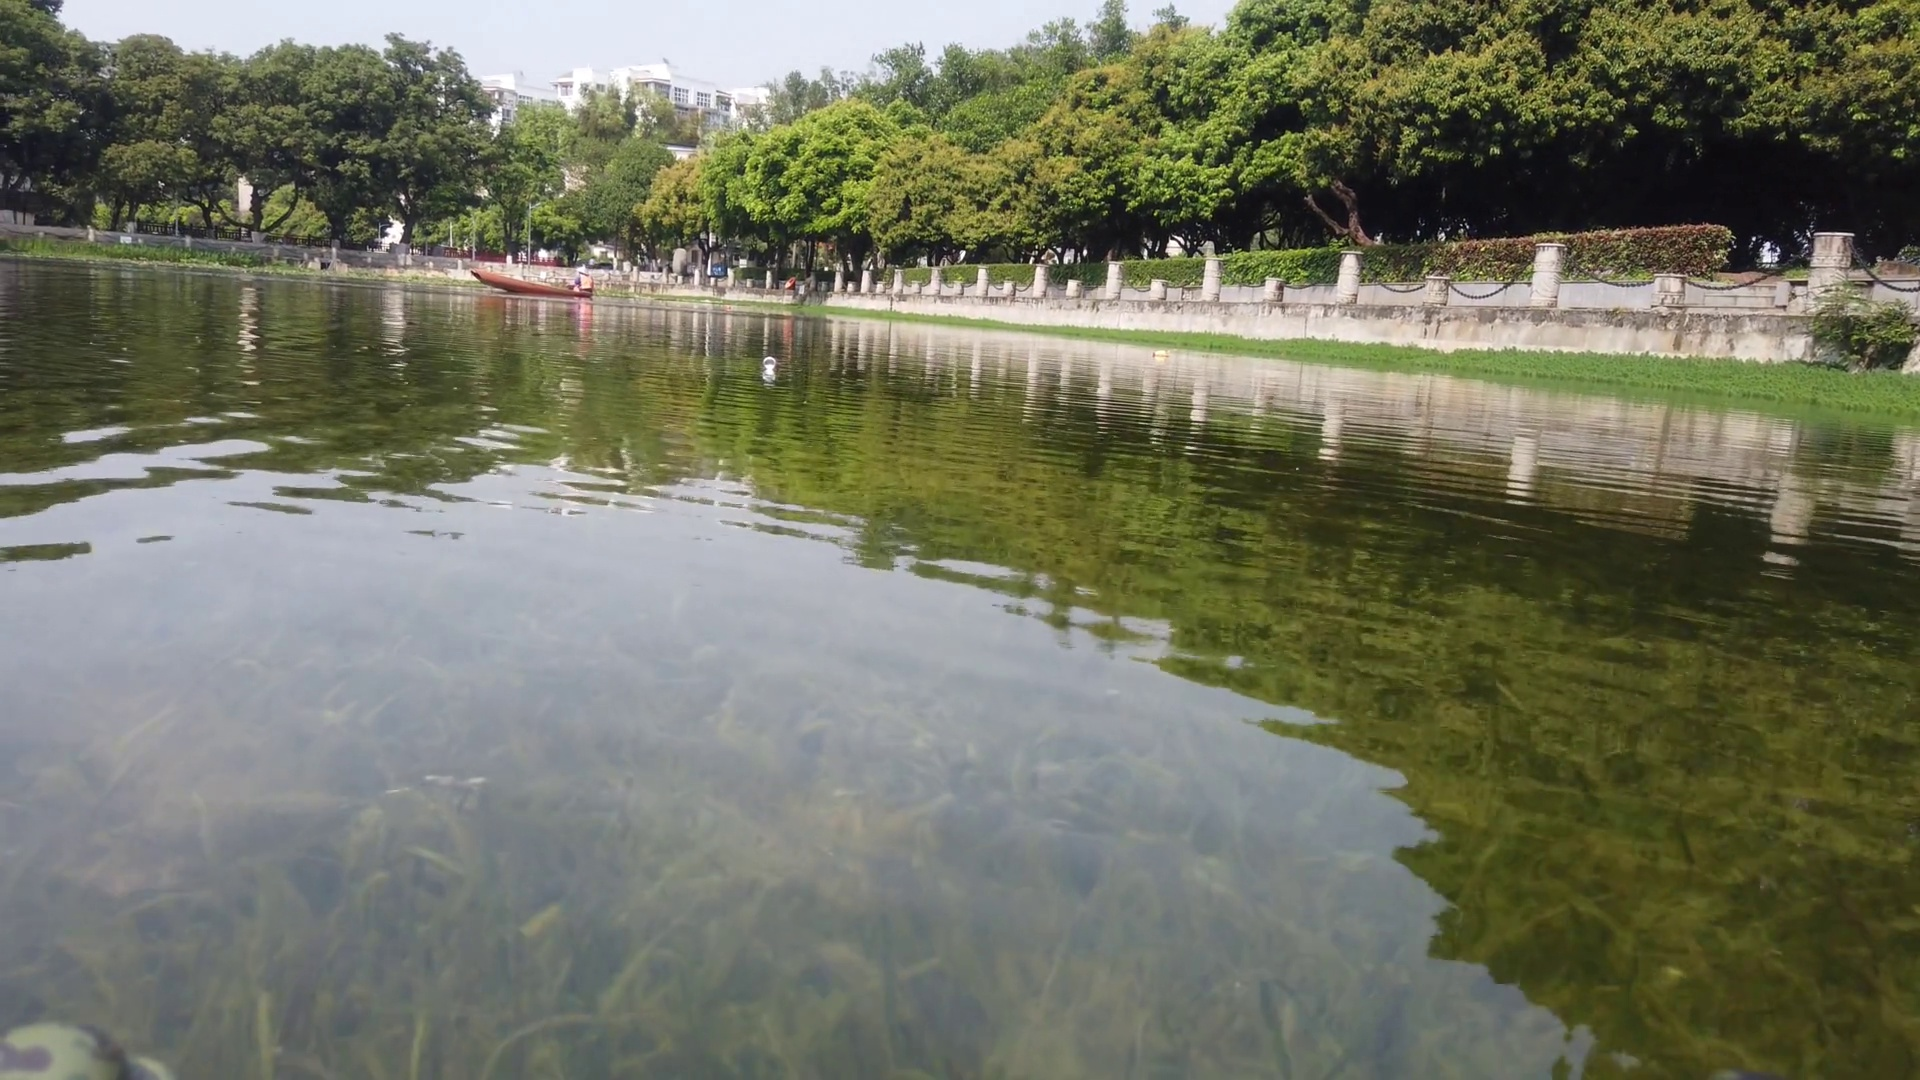bottle: (760, 357, 782, 371), (1153, 349, 1174, 357)
